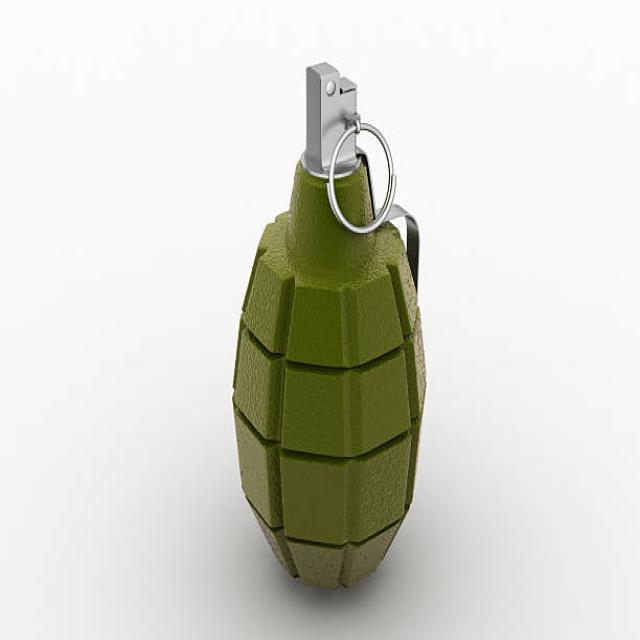grenade: (229, 62, 433, 602)
